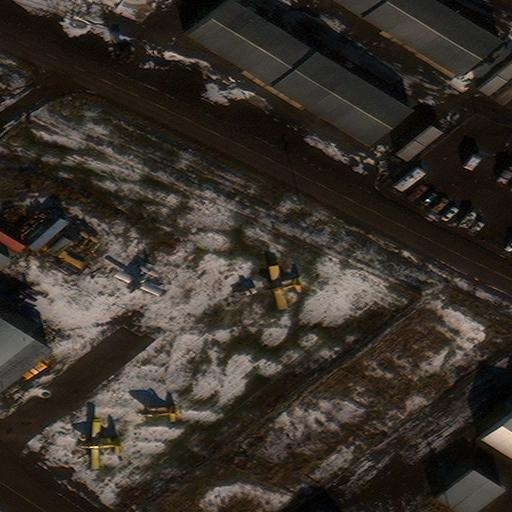Medium Civil Transport: (77, 420, 121, 470)
Small Civil Transport: (265, 266, 302, 310), (112, 268, 159, 296)
